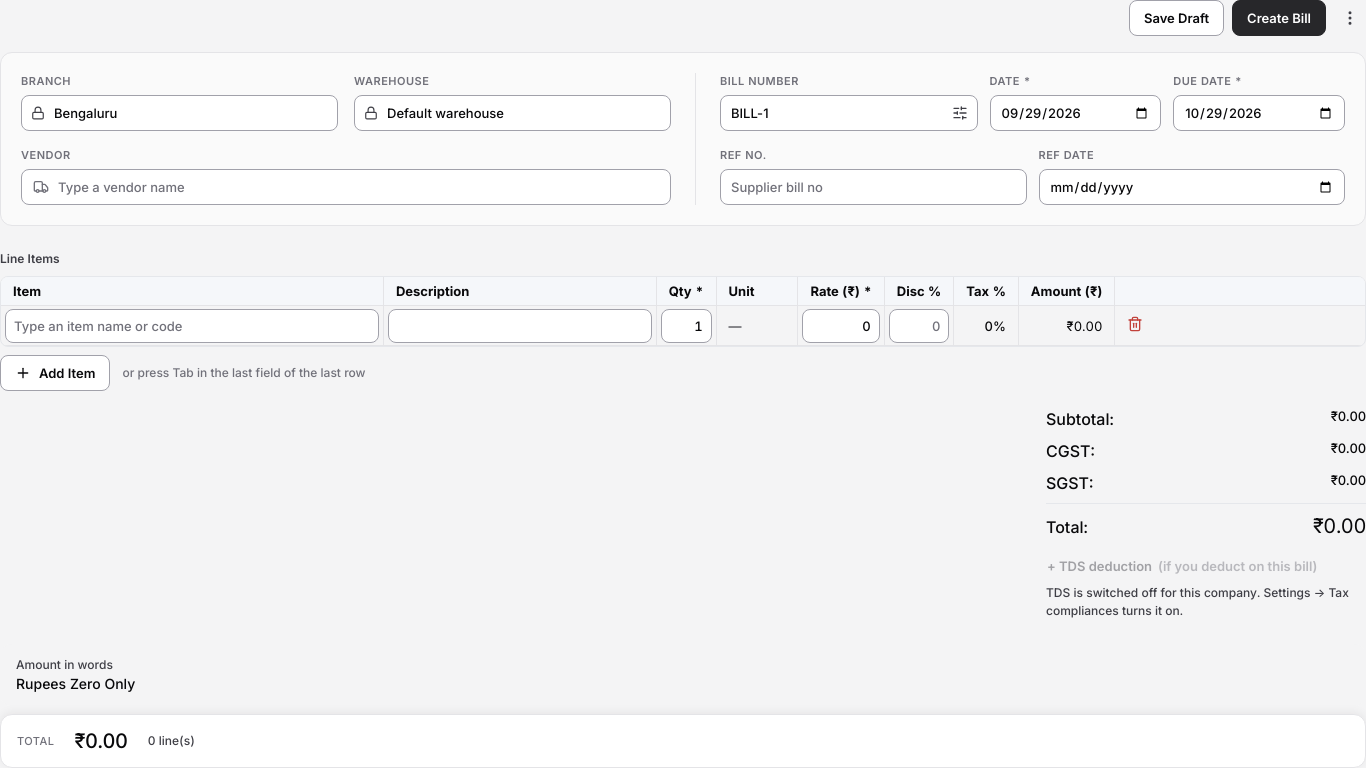
Test: the bill number carries its series › opens onto the purchase series, not the sales one
This screenshot has width=1366, height=768.
Click the button named "Bill numbering settings" at (960, 113), box [946, 99, 974, 127]
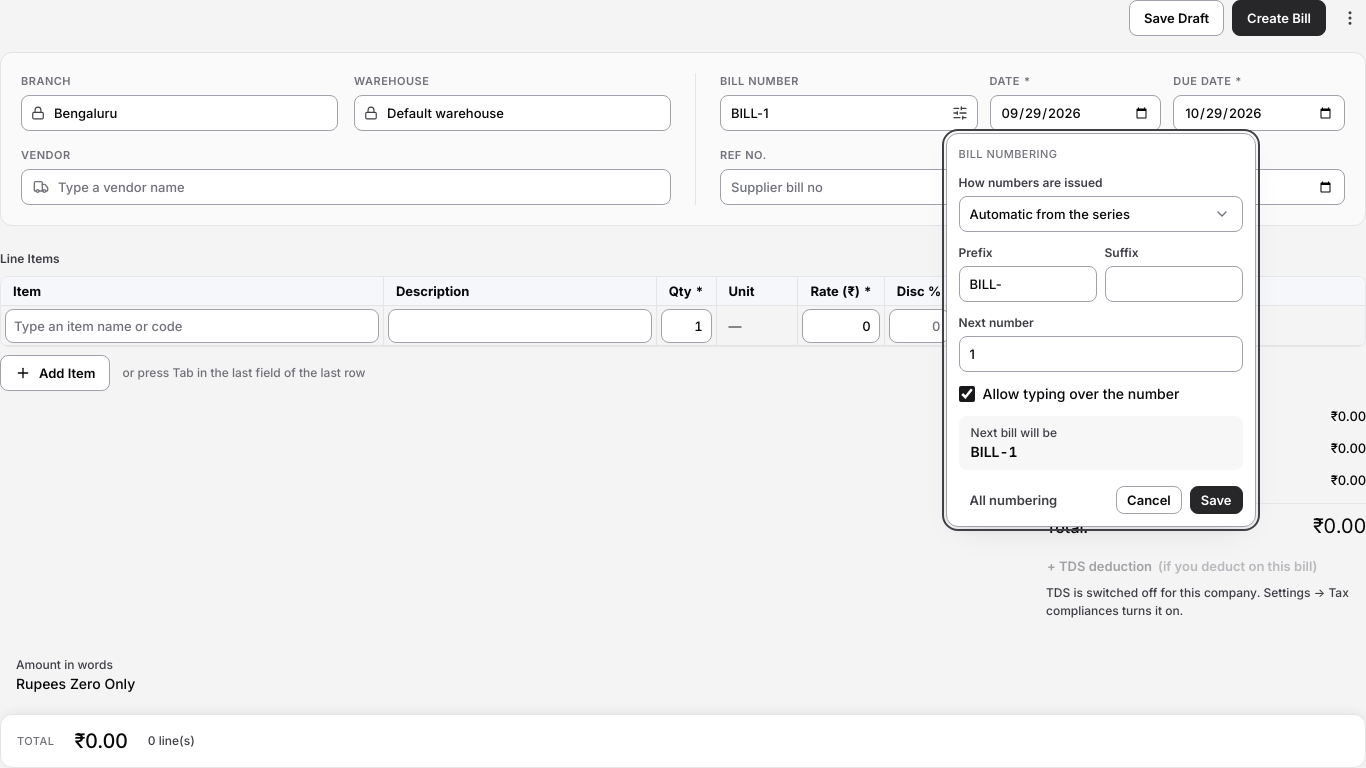
Now the text "Bill numbering" is shown, box [959, 147, 1057, 161]
Now the text "Next bill will be" is shown, box [971, 425, 1057, 440]
